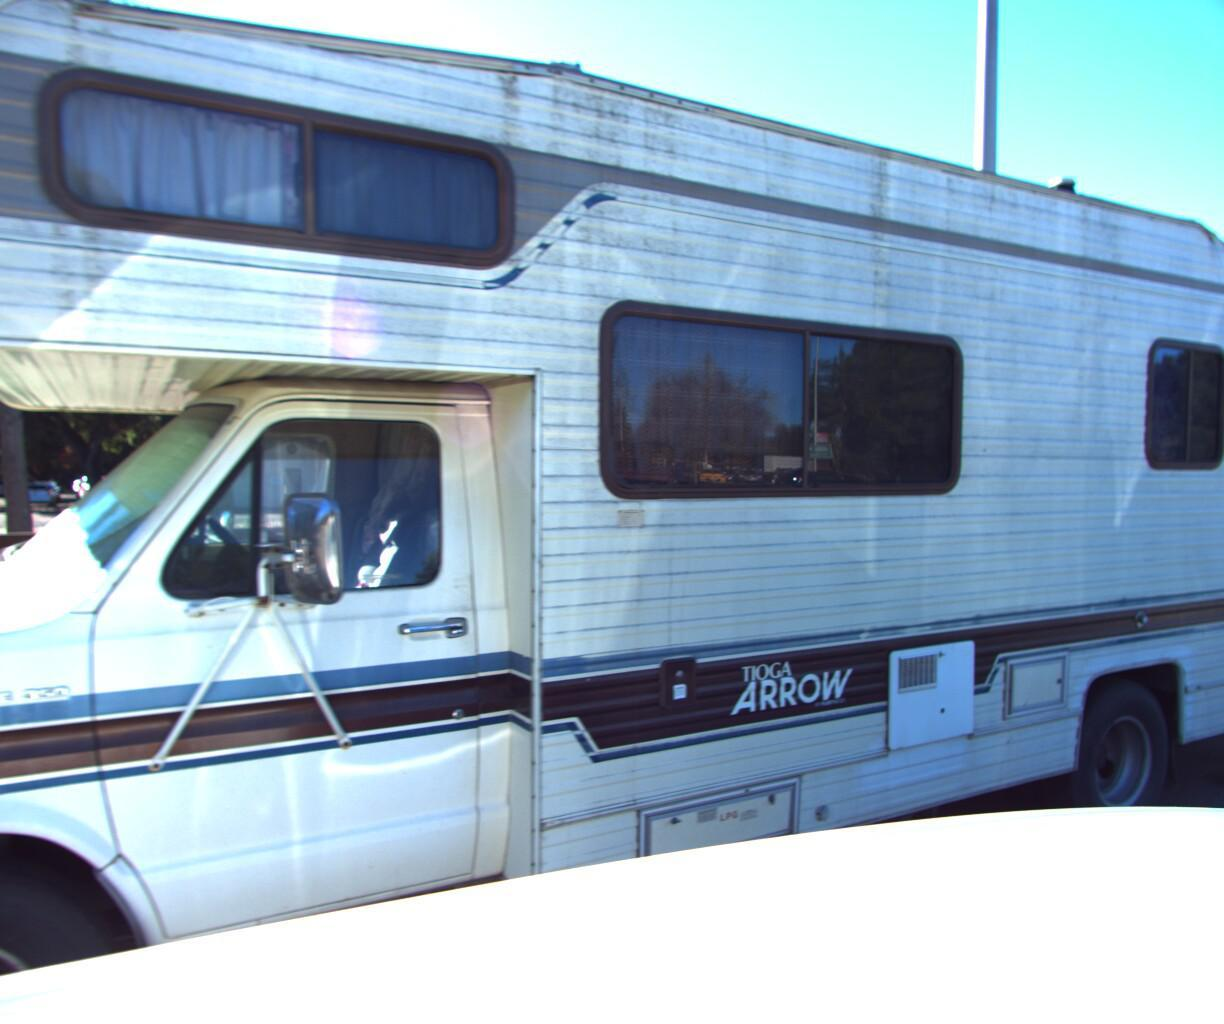car: (1213, 477, 1224, 724)
other_vehicle: (0, 0, 1224, 1024)
